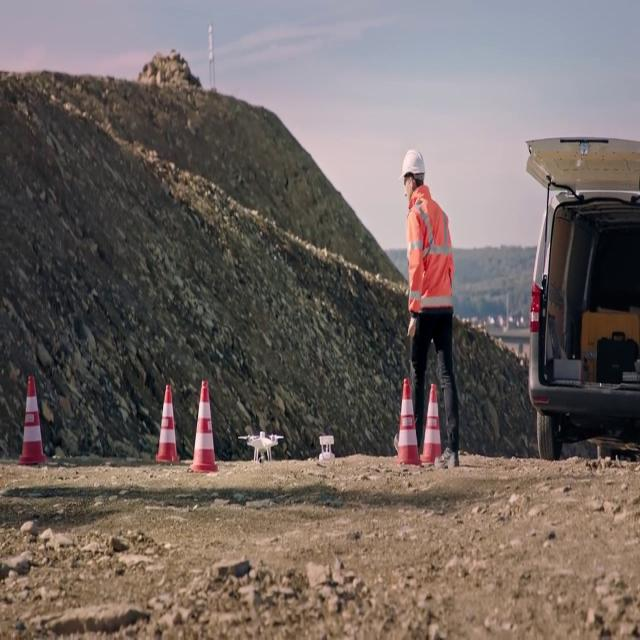drone: (238, 429, 284, 464)
